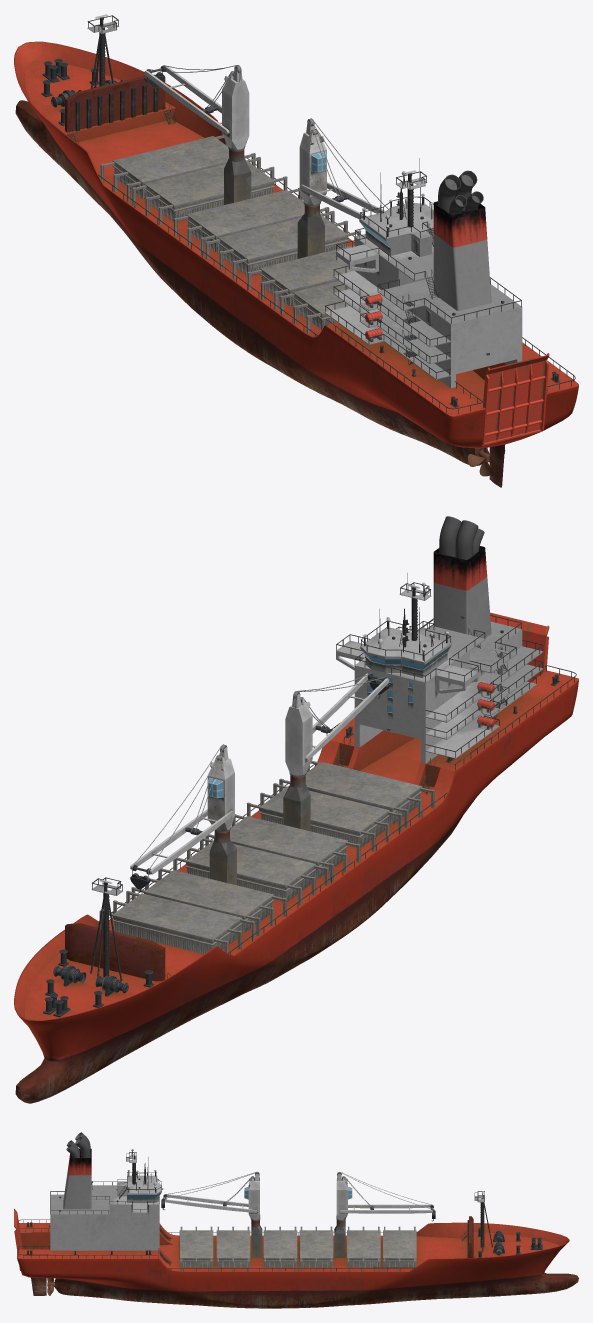
File: cargo-ship.desktop.glb
3 renders of one model, top to bottom at view 1: azimuth 30°, elevation 25°; view 2: azimuth 150°, elevation 25°; view 3: azimuth 270°, elevation 25°, orthographic. The views are drawn at different scales.
Parts seen in each view (by area): view 1: Object_2, Object_9, Object_8; view 2: Object_2, Object_9, Object_8; view 3: Object_9, Object_2, Object_8.
Part boxes in pixels (box(x1,y1,x2,y2)): Object_2: box(67, 14, 575, 445); Object_9: box(14, 41, 578, 487); Object_8: box(41, 58, 522, 388); Object_2: box(90, 516, 576, 981); Object_9: box(14, 670, 578, 1103); Object_8: box(43, 629, 522, 1017); Object_9: box(17, 1222, 578, 1308); Object_2: box(14, 1132, 492, 1271); Object_8: box(50, 1171, 542, 1257).
Size of the model in its own units: 0.1516 by 0.3128 by 1.
3 materials, 3 textured.
